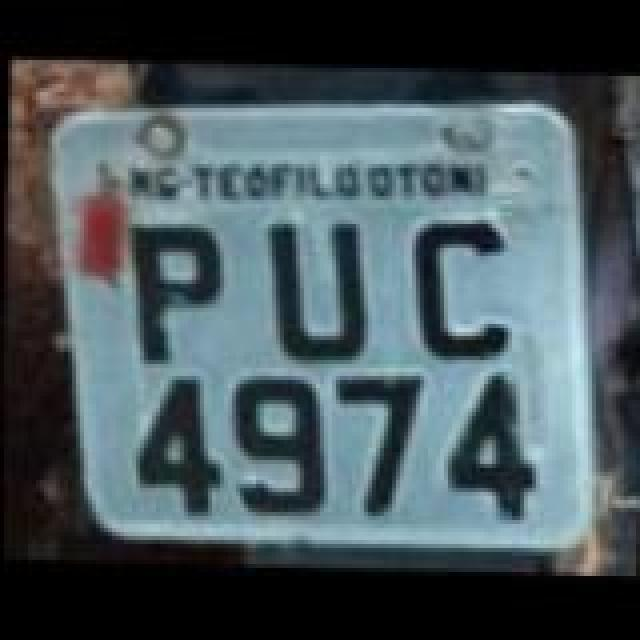4: (434, 364, 538, 524), (128, 370, 220, 518)
7: (326, 372, 422, 524)
9: (226, 368, 330, 520)
C: (410, 218, 518, 362)
P: (118, 220, 222, 360)
U: (258, 210, 374, 362)
